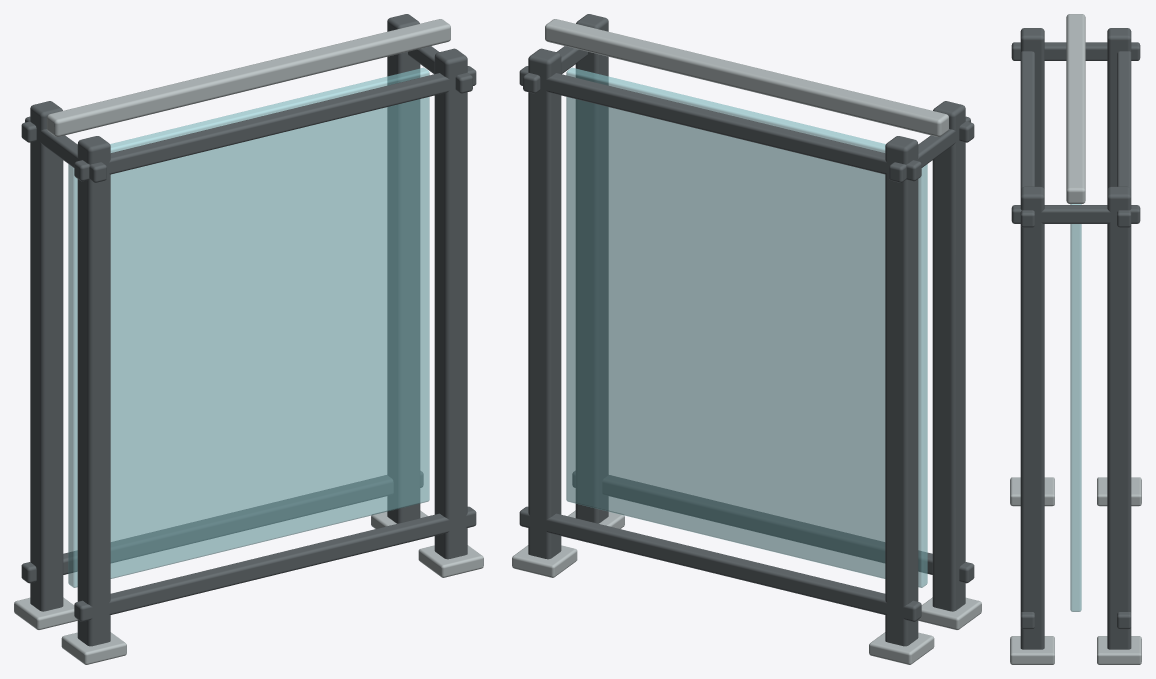
Rendered from glassblowing-studio-and-gallery-safety-screen-d5af4c35__29612.glb.
3 views of the same model, side by side, from view 1: azimuth 30°, elevation 25°; view 2: azimuth 150°, elevation 25°; view 3: azimuth 270°, elevation 25° (orthographic). The views are drawn at different scales.
Parts seen in each view (by area): view 1: safety-screen; view 2: safety-screen; view 3: safety-screen.
Boxes of the visible parts, <box> form: safety-screen: <box>14,14,483,664</box>; safety-screen: <box>512,14,981,664</box>; safety-screen: <box>1010,14,1141,664</box>.
Size of the model in its own units: 1.31 by 1.63 by 0.41.
